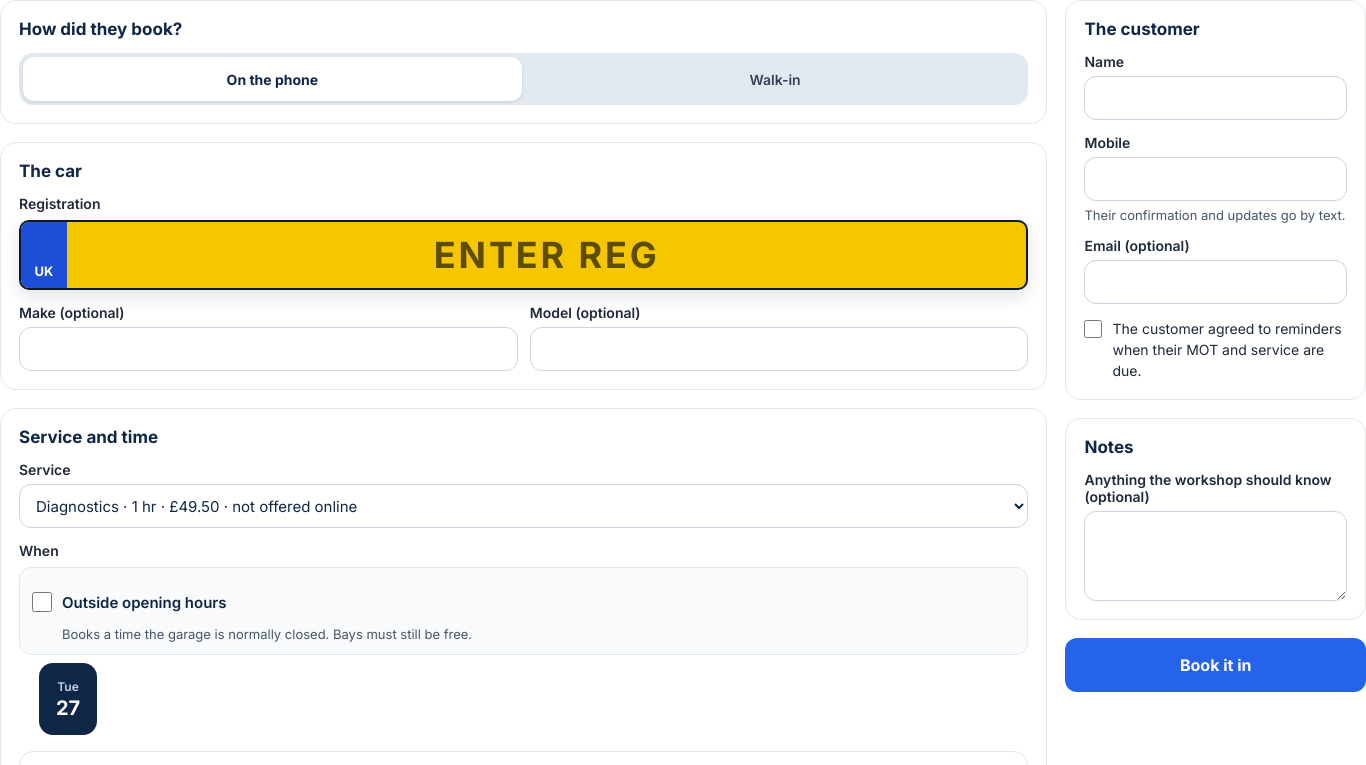
Test: outside opening hours › explains a time that can't be booked and posts no time
Click the checkbox labelled "Outside opening hours" at (42, 602), box 32,592 -> 52,612
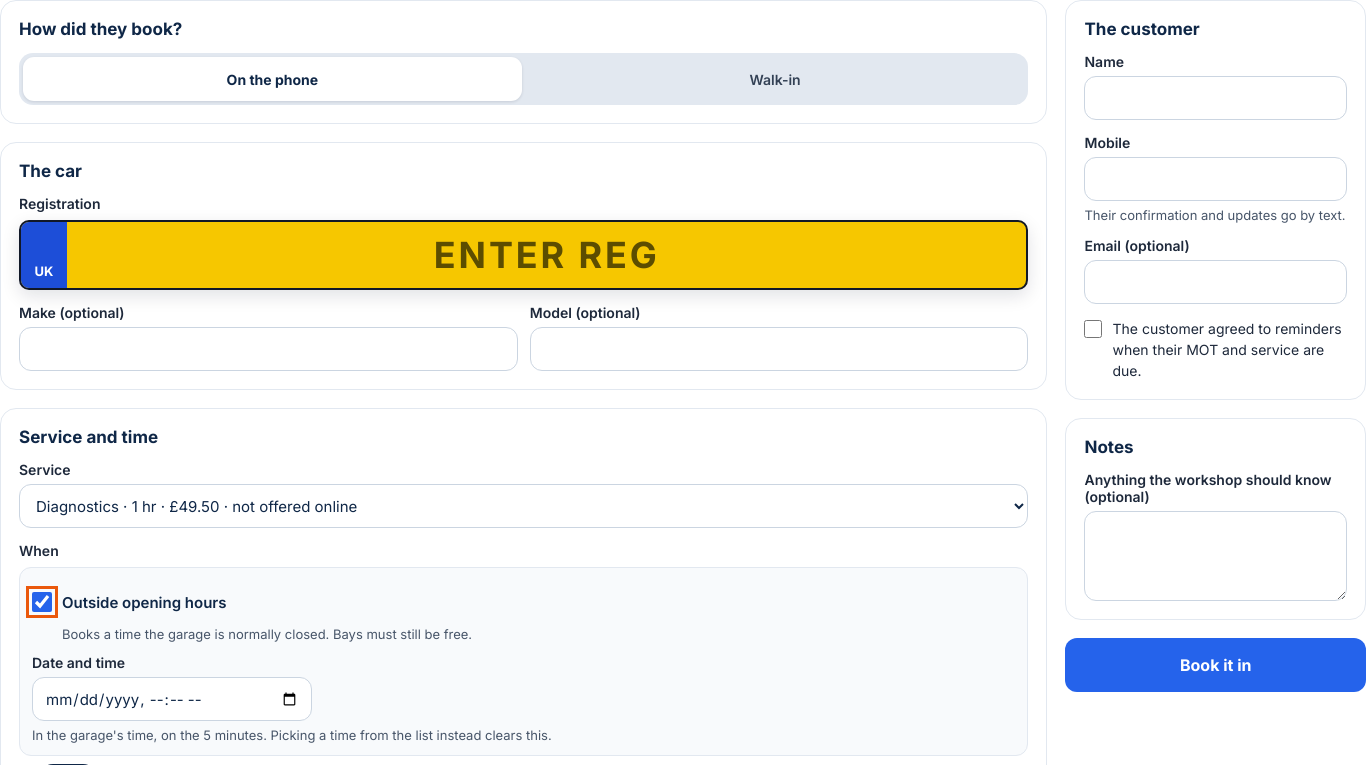
Type "2026-10-27T18:47" into the field labelled "Date and time" at (172, 699), box 32,677 -> 312,721
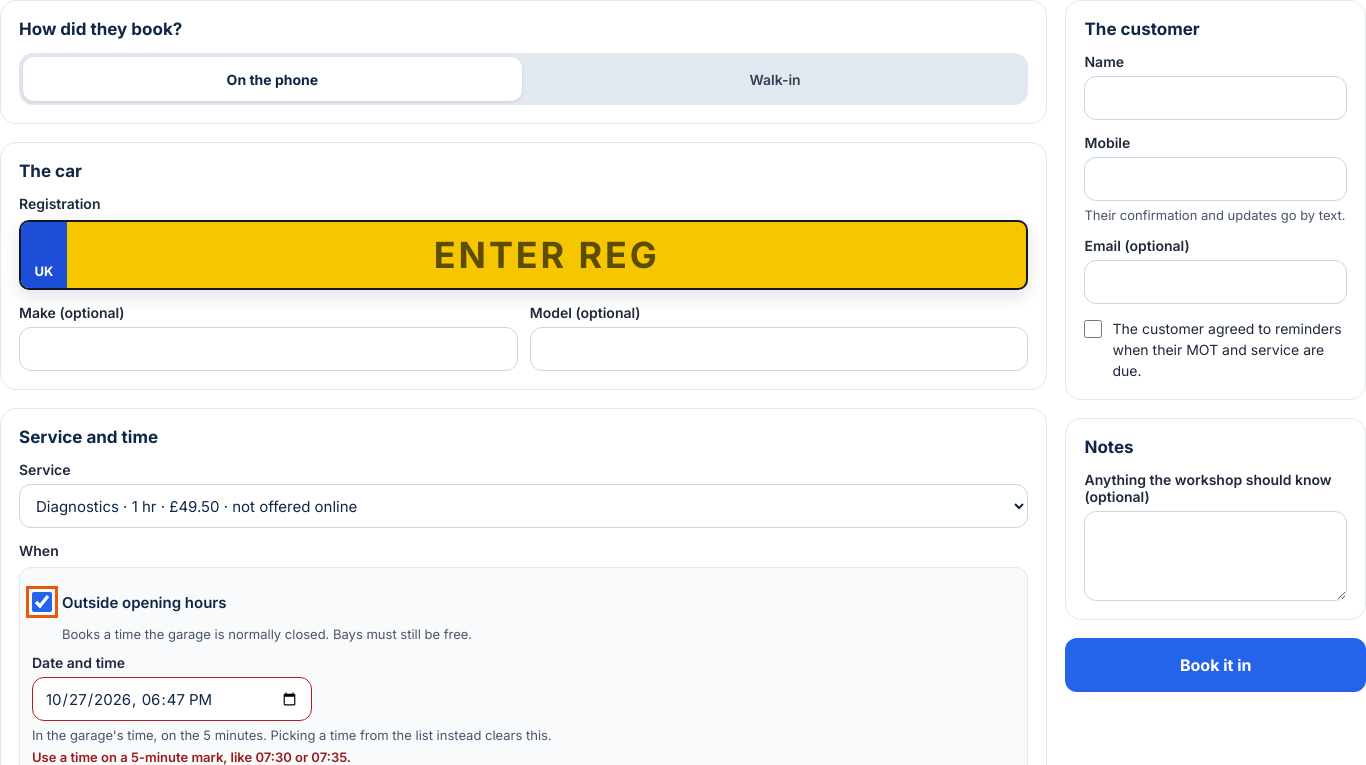
Now the field labelled "Date and time" is marked as invalid, box 32,677 -> 312,721
Note: Unticking goes back to the grid and the box isn't posted.
Click the checkbox labelled "Outside opening hours" at (42, 602), box 32,592 -> 52,612
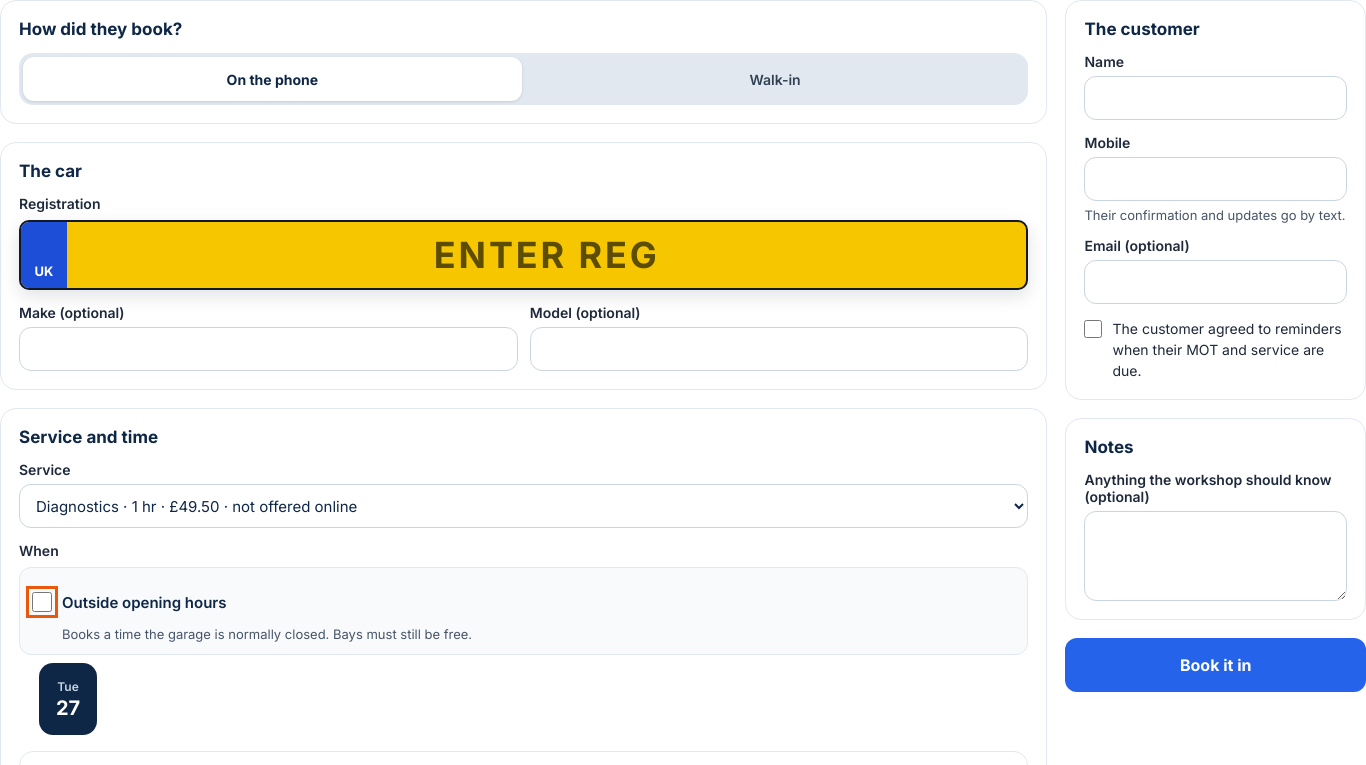
Now the label labelled "Date and time" is gone
